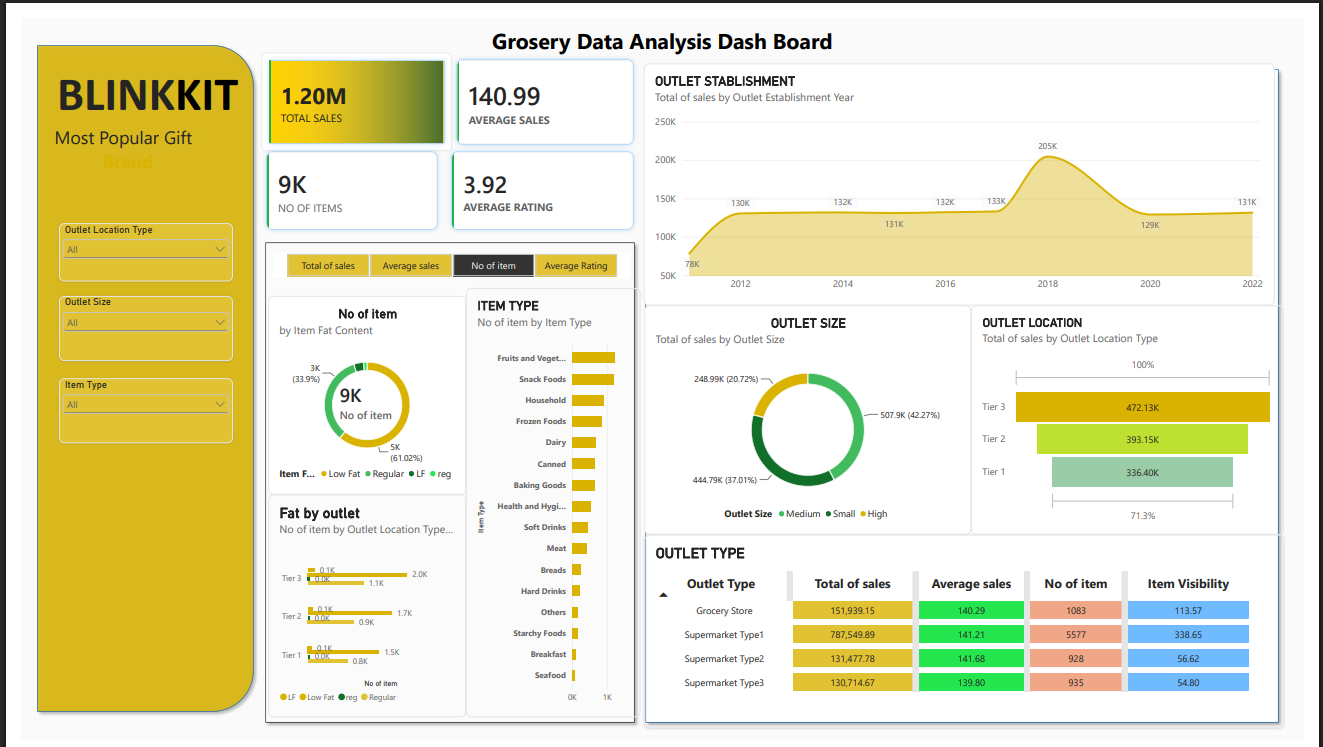

The page's visual inventory and layout, read from the dashboard file:
{"tool":"powerbi","page":{"name":"Page 1","canvas":[1920,1080],"ordinal":0},"visuals":[{"type":"shape","box":[16.2,32.3,341.3,1013.7],"z":0},{"type":"textbox","box":[0,68.7,399.3,94.7],"z":1000},{"type":"textbox","box":[28.3,159.5,341.7,72],"z":2000},{"type":"cardVisual","fields":{"Data":["BlinkIT Grocery Data xlsx - BlinkIT Grocery Data.Total of sales"]},"box":[360,52,284.7,147.4],"z":3000},{"type":"cardVisual","fields":{"Data":["BlinkIT Grocery Data xlsx - BlinkIT Grocery Data.Average sales"]},"box":[642,52,284.7,147.4],"z":4000},{"type":"cardVisual","fields":{"Data":["BlinkIT Grocery Data xlsx - BlinkIT Grocery Data.No of item"]},"box":[357.4,189.8,276.7,137.3],"z":5000},{"type":"cardVisual","fields":{"Data":["BlinkIT Grocery Data xlsx - BlinkIT Grocery Data.Average Rating"]},"box":[634.1,189.8,292.8,137.3],"z":6000},{"type":"shape","box":[357.4,327.1,569.5,735],"z":7000},{"type":"donutChart","fields":{"Category":["BlinkIT Grocery Data xlsx - BlinkIT Grocery Data.Item Fat Content"],"Y":["BlinkIT Grocery Data xlsx - BlinkIT Grocery Data.No of item"]},"box":[369.5,416,296.8,296.8],"z":8000},{"type":"slicer","fields":{"Values":["Metrics.Metrics"]},"box":[377.6,351.4,533.1,36.3],"z":9000},{"type":"cardVisual","fields":{"Data":["BlinkIT Grocery Data xlsx - BlinkIT Grocery Data.No of item"]},"box":[450.3,512.9,139.3,123.2],"z":10000},{"type":"clusteredBarChart","title":"Fat by outlet ","fields":{"Category":["BlinkIT Grocery Data xlsx - BlinkIT Grocery Data.Outlet Location Type"],"Series":["BlinkIT Grocery Data xlsx - BlinkIT Grocery Data.Item Fat Content"],"Y":["BlinkIT Grocery Data xlsx - BlinkIT Grocery Data.No of item"]},"box":[369.5,712.8,296.8,333.2],"z":11000},{"type":"barChart","title":"ITEM TYPE","fields":{"Category":["BlinkIT Grocery Data xlsx - BlinkIT Grocery Data.Item Type"],"Y":["BlinkIT Grocery Data xlsx - BlinkIT Grocery Data.No of item"]},"box":[666.4,403.9,260.5,642.2],"z":12000},{"type":"shape","box":[926,68,964,994],"z":13000},{"type":"lineChart","title":"OUTLET STABLISHMENT","fields":{"Category":["BlinkIT Grocery Data xlsx - BlinkIT Grocery Data.Outlet Establishment Year"],"Y":["BlinkIT Grocery Data xlsx - BlinkIT Grocery Data.Total of sales"]},"box":[932,68,944,362],"z":14000},{"type":"donutChart","title":"OUTLET SIZE","fields":{"Category":["BlinkIT Grocery Data xlsx - BlinkIT Grocery Data.Outlet Size"],"Y":["BlinkIT Grocery Data xlsx - BlinkIT Grocery Data.Total of sales"]},"box":[932.9,430.1,488.7,343.3],"z":15000},{"type":"funnel","title":"OUTLET LOCATION","fields":{"Category":["BlinkIT Grocery Data xlsx - BlinkIT Grocery Data.Outlet Location Type"],"Y":["BlinkIT Grocery Data xlsx - BlinkIT Grocery Data.Total of sales"]},"box":[1421.6,430.1,468.5,343.3],"z":16000},{"type":"pivotTable","title":"OUTLET TYPE","fields":{"Rows":["BlinkIT Grocery Data xlsx - BlinkIT Grocery Data.Outlet Type"],"Values":["BlinkIT Grocery Data xlsx - BlinkIT Grocery Data.Total of sales","BlinkIT Grocery Data xlsx - BlinkIT Grocery Data.Average sales","BlinkIT Grocery Data xlsx - BlinkIT Grocery Data.No of item","Sum(BlinkIT Grocery Data xlsx - BlinkIT Grocery Data.Item Visibility)"]},"box":[932.9,773.4,957.2,288.8],"z":17000},{"type":"slicer","fields":{"Values":["BlinkIT Grocery Data xlsx - BlinkIT Grocery Data.Outlet Location Type"]},"box":[56.5,306.9,260.5,86.8],"z":18000},{"type":"slicer","fields":{"Values":["BlinkIT Grocery Data xlsx - BlinkIT Grocery Data.Outlet Size"]},"box":[56.5,416,260.5,96.9],"z":19000},{"type":"slicer","fields":{"Values":["BlinkIT Grocery Data xlsx - BlinkIT Grocery Data.Item Type"]},"box":[56.5,539.2,260.5,96.9],"z":20000},{"type":"textbox","box":[334,12,1252,56],"z":20001}]}

Visuals, with their boxes in screenshot pixels (x1, y1, x2, y2), scaled from the page's 1920x1080 canvas onto the 1323x747 screenshot:
shape: 11, 22, 246, 723
textbox: 0, 48, 275, 113
textbox: 20, 110, 255, 160
cardVisual - BlinkIT Grocery Data xlsx - BlinkIT Grocery Data.Total of sales: 248, 36, 444, 138
cardVisual - BlinkIT Grocery Data xlsx - BlinkIT Grocery Data.Average sales: 442, 36, 639, 138
cardVisual - BlinkIT Grocery Data xlsx - BlinkIT Grocery Data.No of item: 246, 131, 437, 226
cardVisual - BlinkIT Grocery Data xlsx - BlinkIT Grocery Data.Average Rating: 437, 131, 639, 226
shape: 246, 226, 639, 735
donutChart - BlinkIT Grocery Data xlsx - BlinkIT Grocery Data.Item Fat Content x BlinkIT Grocery Data xlsx - BlinkIT Grocery Data.No of item: 255, 288, 459, 493
slicer - Metrics.Metrics: 260, 243, 628, 268
cardVisual - BlinkIT Grocery Data xlsx - BlinkIT Grocery Data.No of item: 310, 355, 406, 440
"Fat by outlet " clusteredBarChart: 255, 493, 459, 723
"ITEM TYPE" barChart: 459, 279, 639, 724
shape: 638, 47, 1302, 735
"OUTLET STABLISHMENT" lineChart: 642, 47, 1293, 297
"OUTLET SIZE" donutChart: 643, 297, 980, 535
"OUTLET LOCATION" funnel: 980, 297, 1302, 535
"OUTLET TYPE" pivotTable: 643, 535, 1302, 735
slicer - BlinkIT Grocery Data xlsx - BlinkIT Grocery Data.Outlet Location Type: 39, 212, 218, 272
slicer - BlinkIT Grocery Data xlsx - BlinkIT Grocery Data.Outlet Size: 39, 288, 218, 355
slicer - BlinkIT Grocery Data xlsx - BlinkIT Grocery Data.Item Type: 39, 373, 218, 440
textbox: 230, 8, 1093, 47
